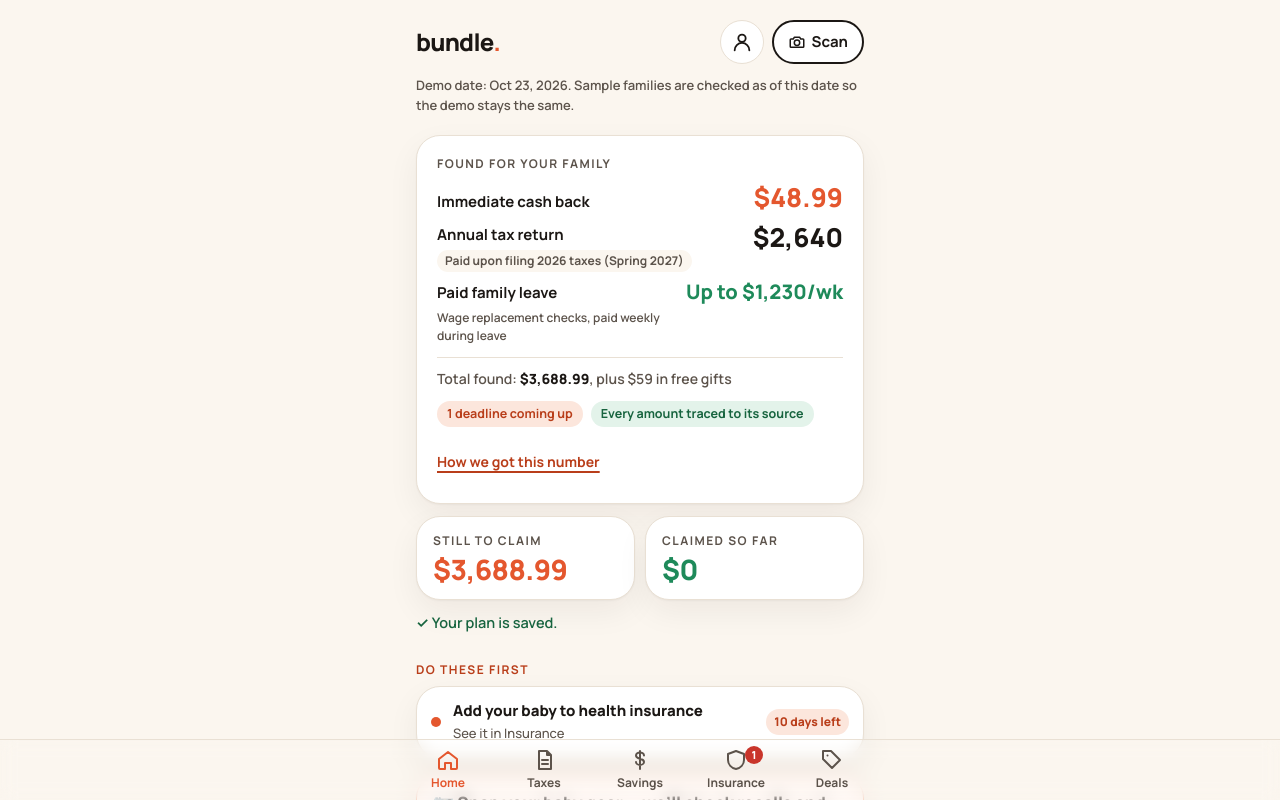
Test: 6. Account in plain words › a parent sees no Meterless, no "Technical details" and no automatic grading notes
The width and height of the screenshot is (1280, 800).
Click the button named "Your account" at (742, 42), box [720, 20, 764, 64]
(page scrolled)
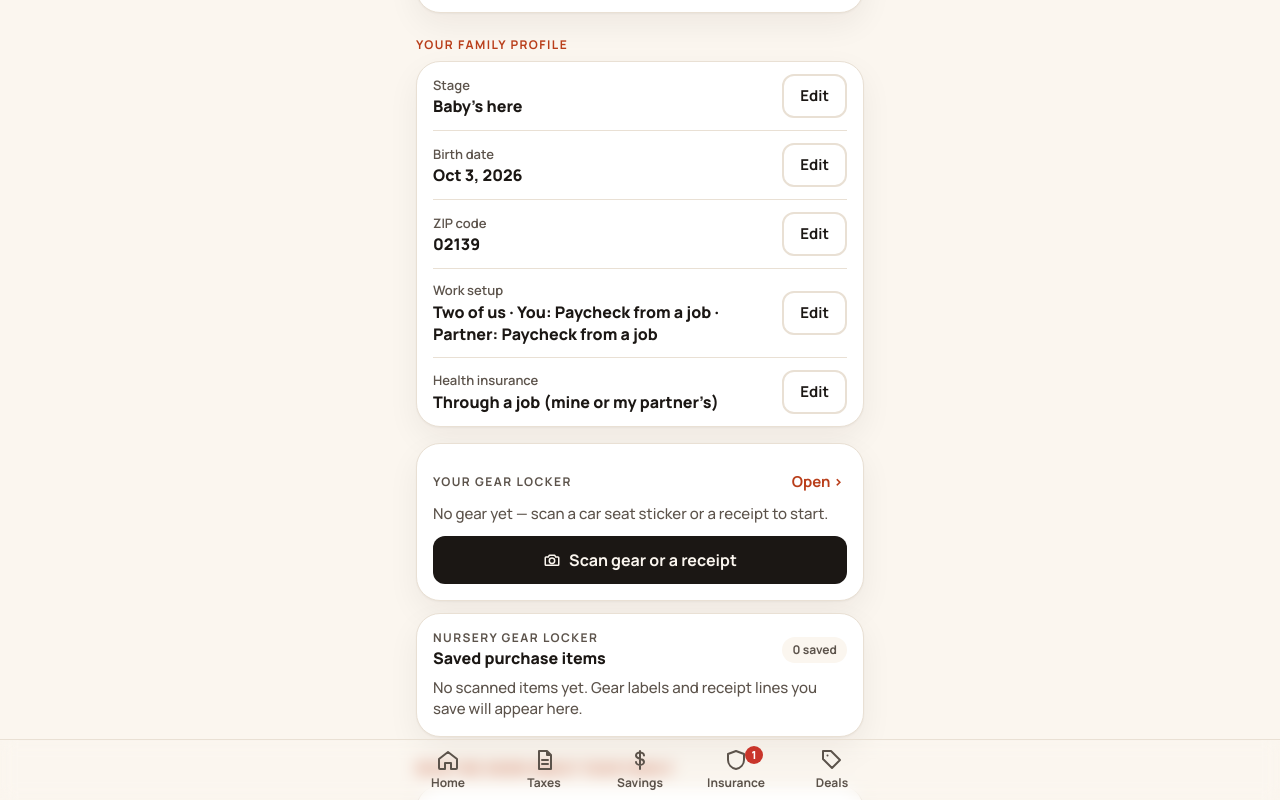
Expected: the text "What we know about your family" is shown, [416, 760, 674, 777]
